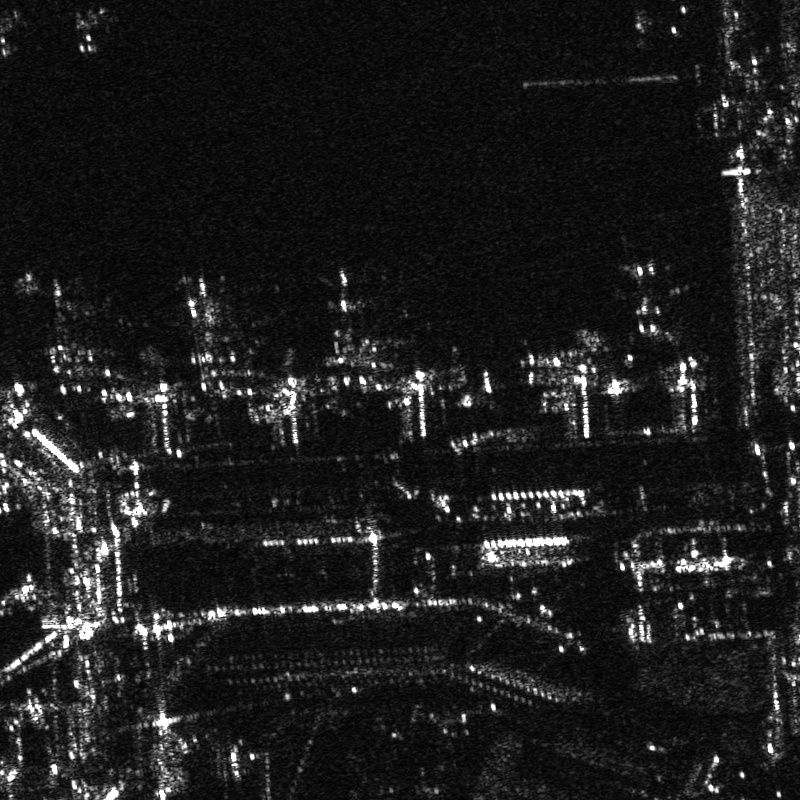A220: (605, 259, 697, 344), (172, 267, 238, 347)
Boeing787: (312, 264, 379, 337)
other: (24, 268, 90, 338)
